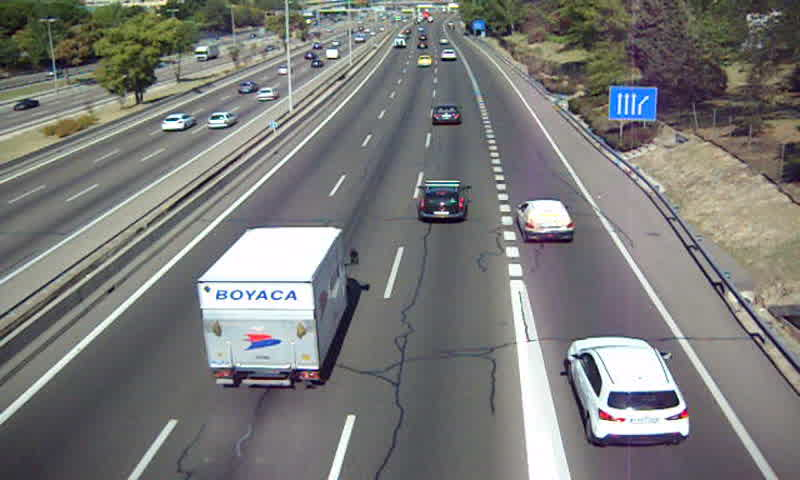car: (566, 337, 691, 446), (516, 199, 574, 241), (416, 178, 466, 221), (429, 104, 461, 126), (416, 54, 433, 68), (440, 48, 458, 61)
small-truck: (195, 227, 348, 386)
